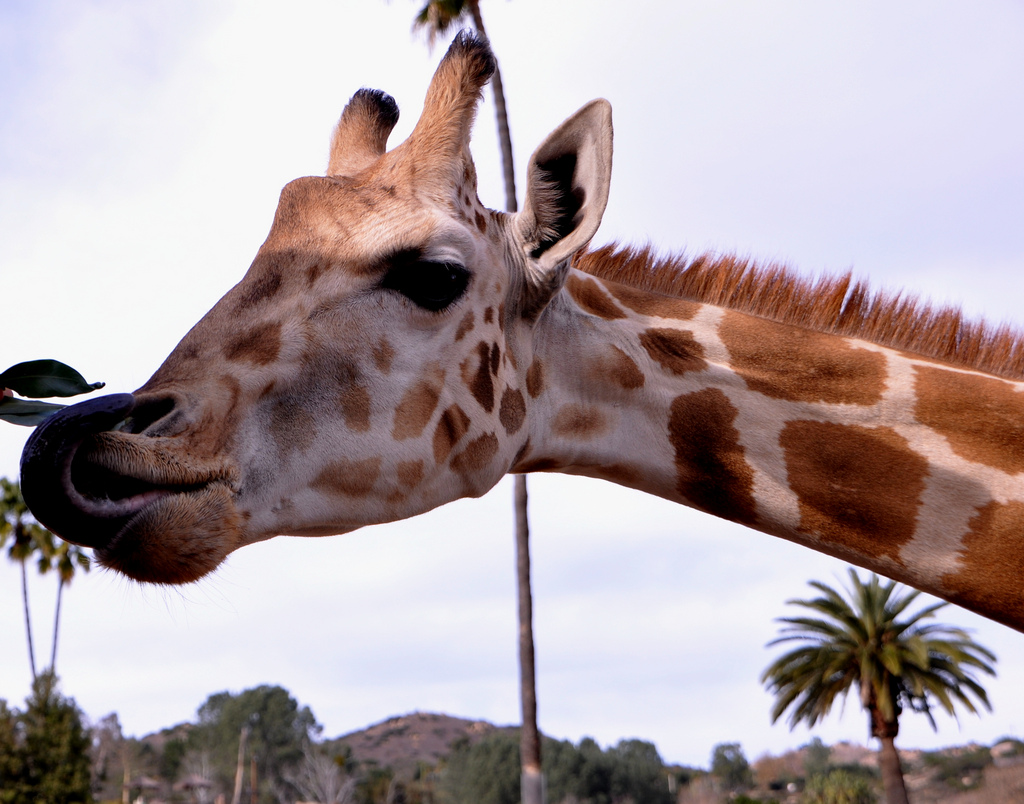giraffe: (62, 29, 1011, 671)
